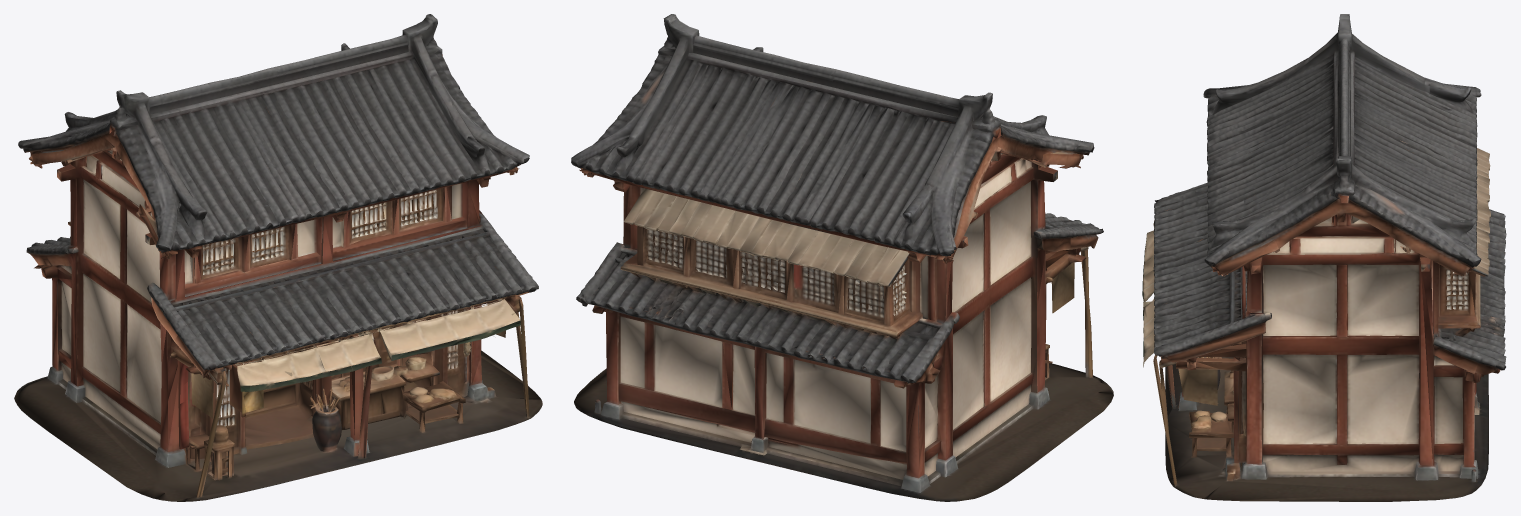
File: 09_Apothecary_LOD1.fbx
3 renders of one model, left to right at view 1: azimuth 30°, elevation 25°; view 2: azimuth 150°, elevation 25°; view 3: azimuth 270°, elevation 25°, orthographic. The views are drawn at different scales.
Visible parts, largest first — view 1: 09_Apothecary_L1; view 2: 09_Apothecary_L1; view 3: 09_Apothecary_L1.
Boxes of the visible parts, left/top/right/bottom form: 09_Apothecary_L1: left=14, top=14, right=542, bottom=501; 09_Apothecary_L1: left=571, top=14, right=1113, bottom=501; 09_Apothecary_L1: left=1142, top=14, right=1506, bottom=501.
Bounding box in the file's own units: 10.71 × 8.5 × 8.67.
